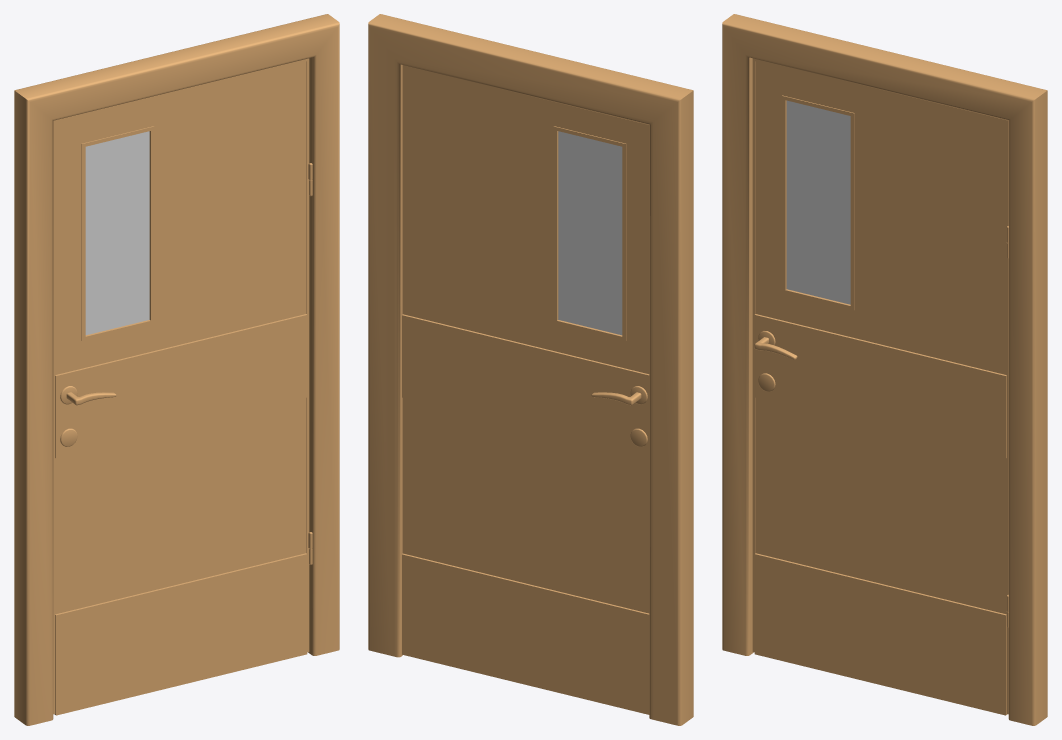
The model's file is Door.fbx.
The picture shows the model from 3 angles, left to right: view 1: azimuth 30°, elevation 25°; view 2: azimuth 150°, elevation 25°; view 3: azimuth 330°, elevation 25°; orthographic projection.
Visible parts, largest first — view 1: Door1, Door_Frame; view 2: Door1, Door_Frame; view 3: Door1, Door_Frame.
Part boxes in pixels (box(x1,y1,x2,y2)): Door1: box(53, 58, 312, 715); Door_Frame: box(14, 14, 339, 725); Door1: box(402, 65, 649, 714); Door_Frame: box(368, 14, 693, 725); Door1: box(752, 58, 1008, 715); Door_Frame: box(722, 14, 1047, 725).
Size of the model in its own units: 110 by 210 by 18.12.
